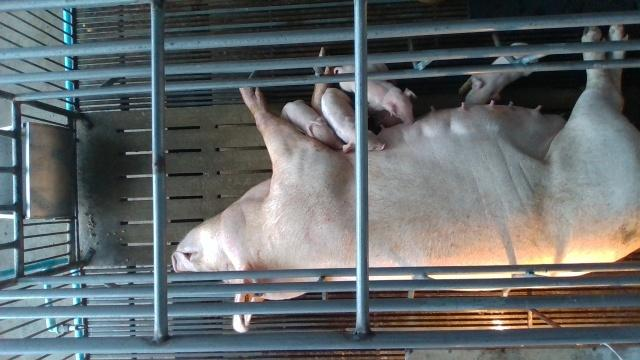piglet: (333, 62, 420, 127), (457, 42, 539, 107), (321, 86, 388, 154), (281, 98, 344, 151)
sow-sleep-lactate: (172, 24, 640, 335)
